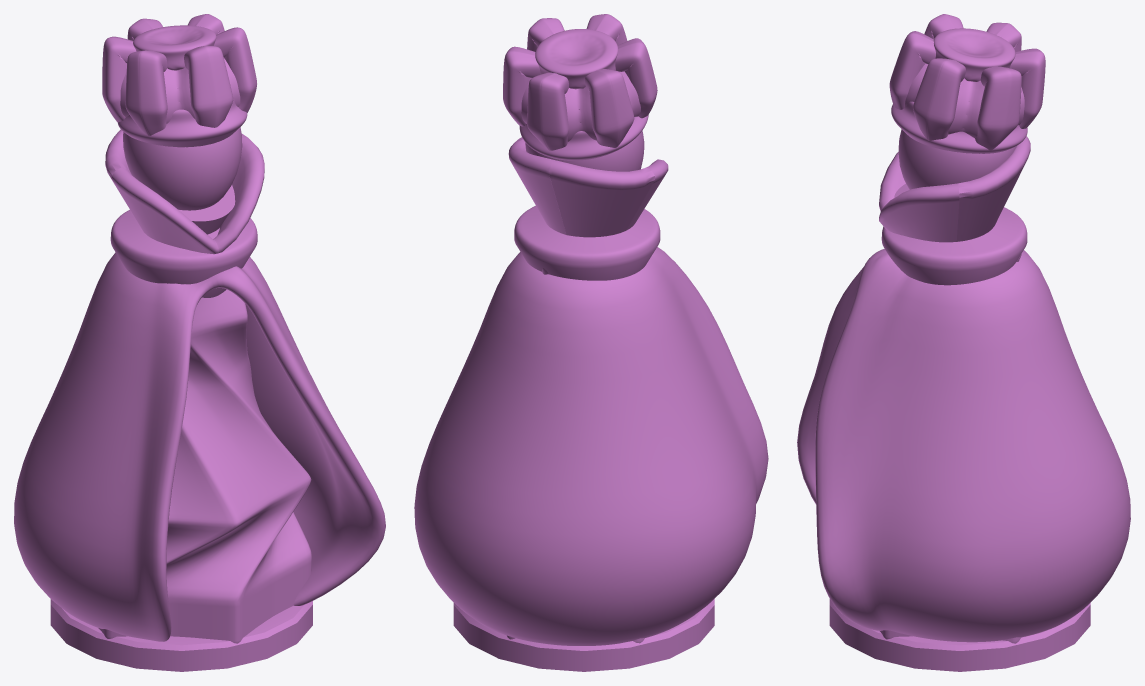
Rendered from king.fbx.
3 renders of one model, left to right at view 1: azimuth 30°, elevation 25°; view 2: azimuth 150°, elevation 25°; view 3: azimuth 270°, elevation 25°, orthographic.
Parts seen in each view (by area): view 1: Cylinder018; view 2: Cylinder018; view 3: Cylinder018.
Part boxes in pixels (x1,y1,x2,y2): Cylinder018: (14, 14, 385, 671); Cylinder018: (414, 14, 768, 671); Cylinder018: (797, 14, 1130, 671).
Bounding box in the file's own units: 48.74 × 91.44 × 47.43.
